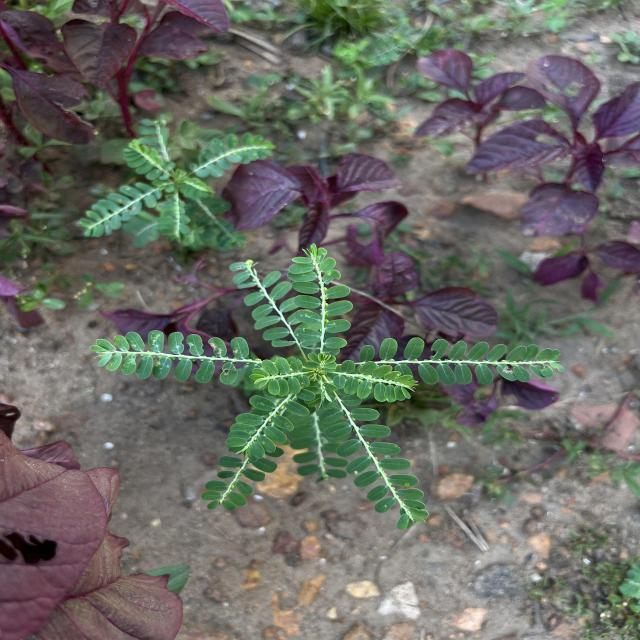Phyllanthus niruri: (318, 396, 429, 530), (354, 336, 568, 385), (88, 328, 258, 386), (287, 242, 354, 360), (223, 393, 312, 464), (330, 358, 420, 404), (249, 355, 310, 397)
